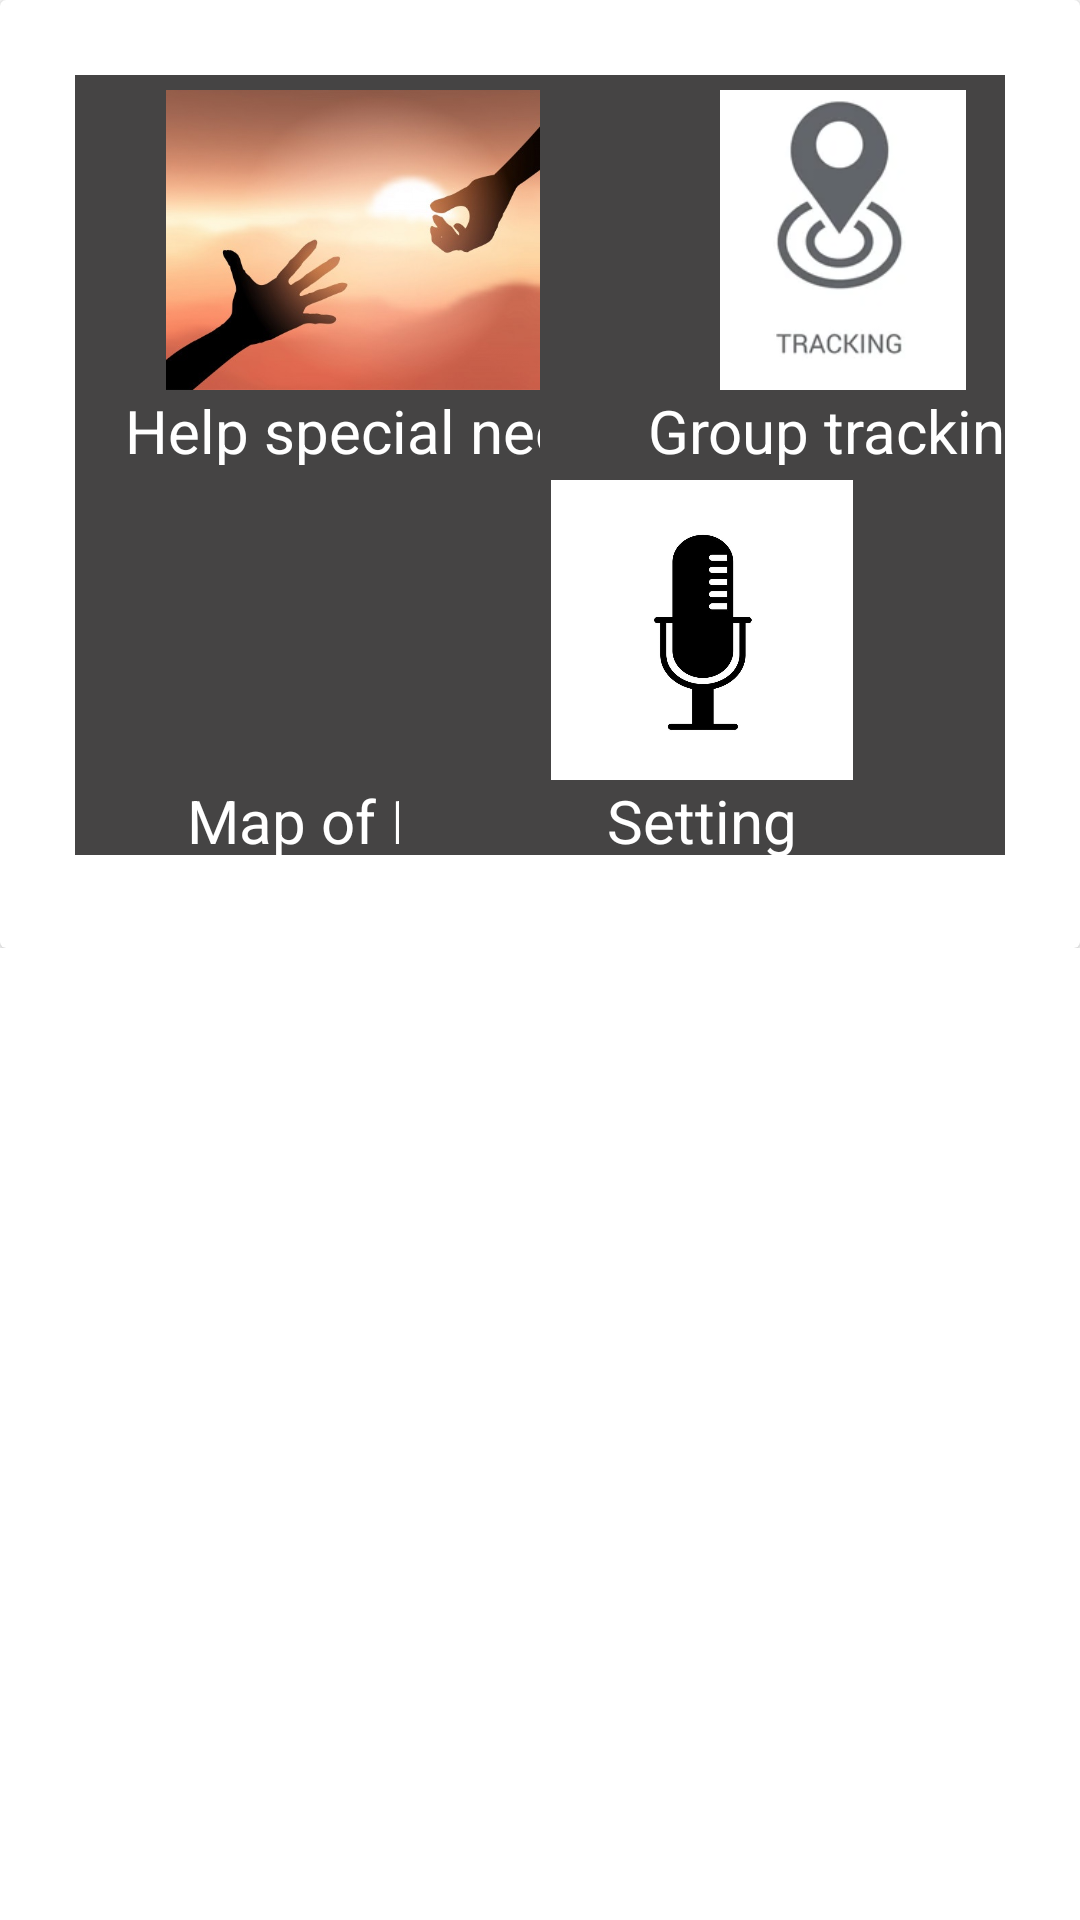

Icons on this 1080 x 1920 Android screen, each with the point to tap as (x=x, y=y):
mike: (x=702, y=630)
